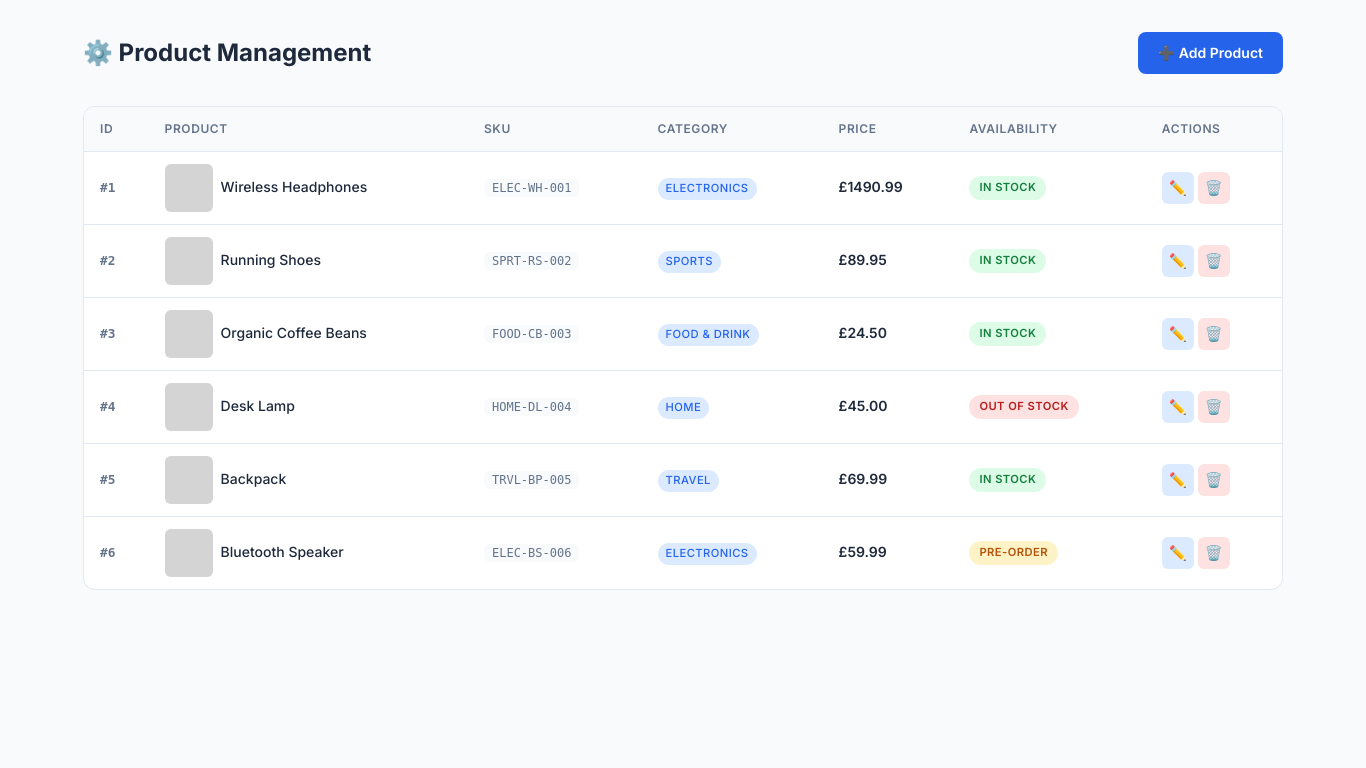
Test case: Admin — Product Management › removes a product after confirmation
The image size is (1366, 768).
Expected: the text "Wireless Headphones" is shown, [221,176,367,199]
# Click delete on "Wireless Headphones"
Click the button named "delete wireless headphones".
click(1214, 188)  # box [1198,172,1230,204]
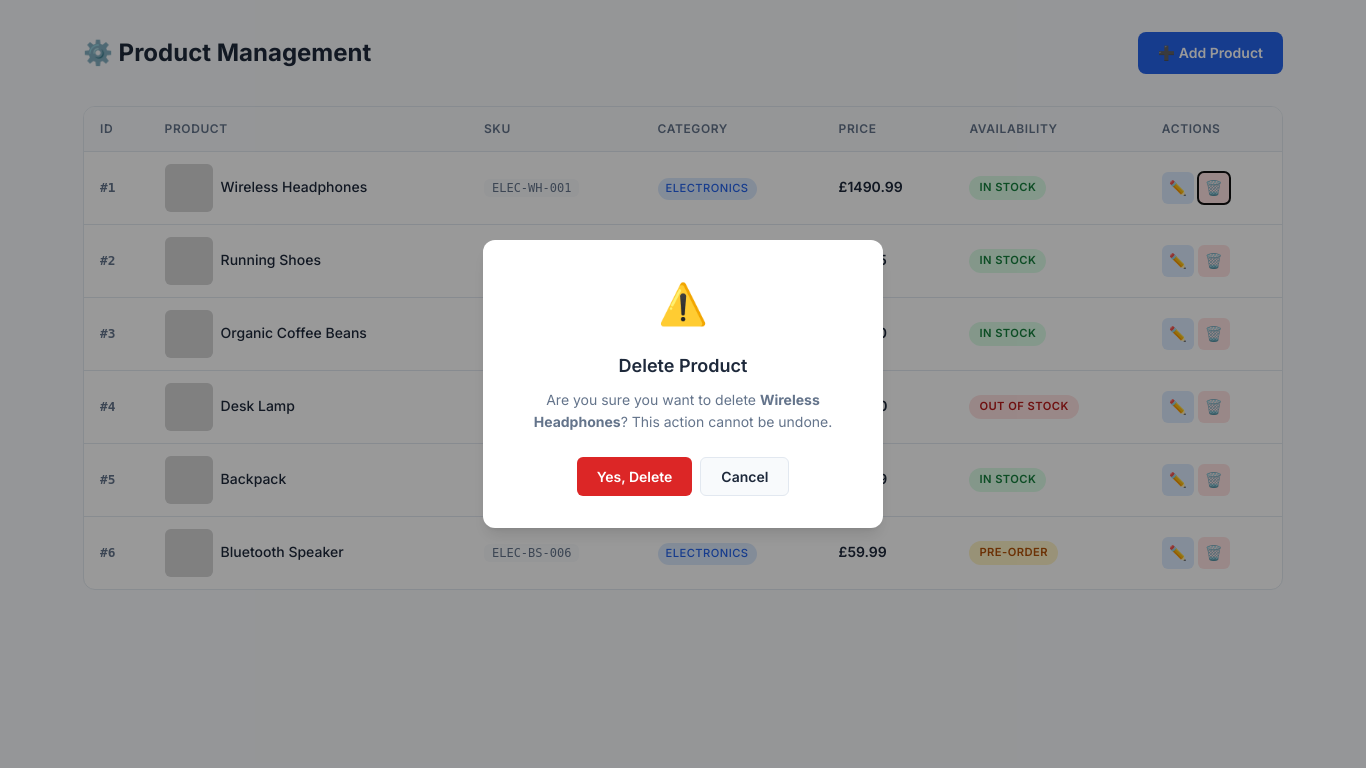
# Confirm in the modal
Click the button "Yes, Delete".
click(634, 477)  # box [577,457,692,496]
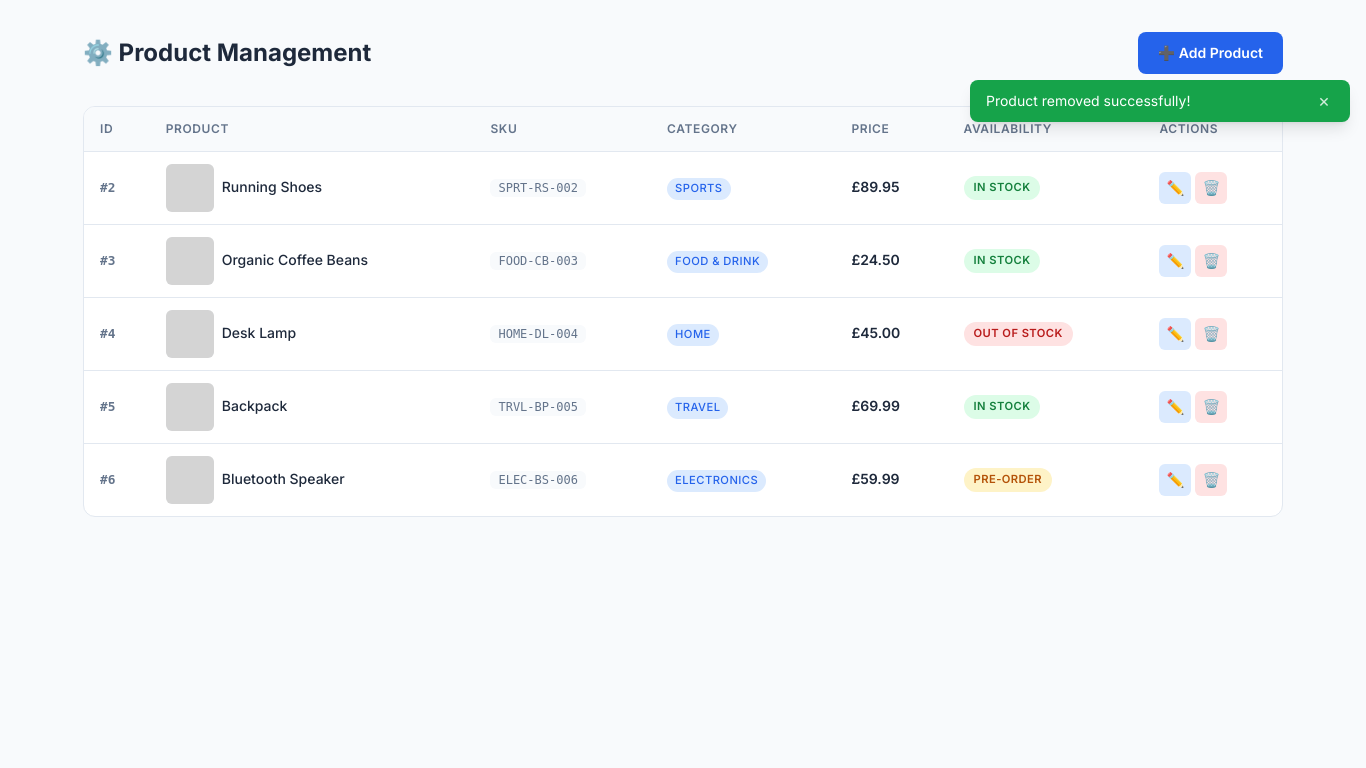
Expected: the text "Wireless Headphones" is gone
